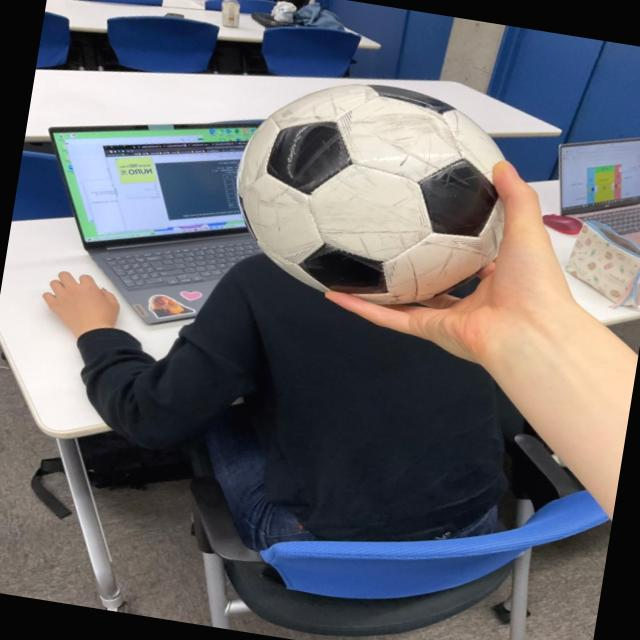Soccer Ball: (227, 65, 498, 309)
